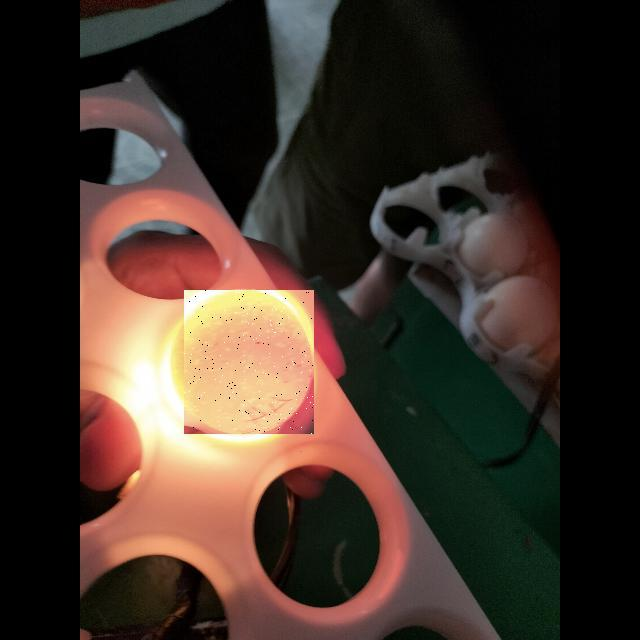Infertile: (184, 290, 314, 434)
